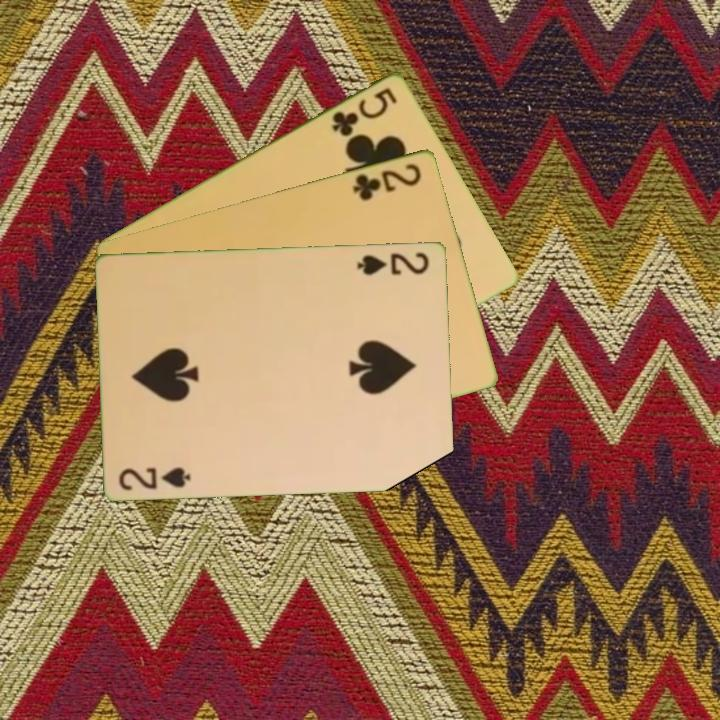2c: (349, 159, 425, 203)
2s: (115, 463, 194, 493), (353, 248, 433, 277)
5c: (328, 83, 401, 139)
